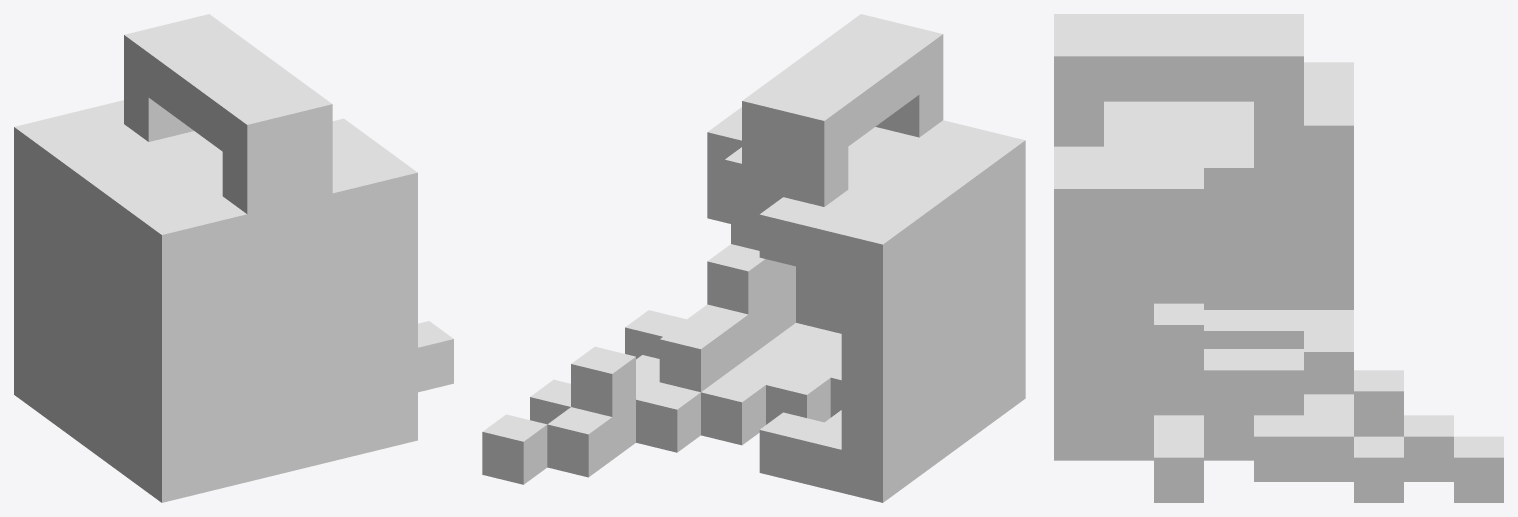
Rendered from CupWhiteDestroy.obj.
The picture shows the model from 3 angles, left to right: view 1: azimuth 30°, elevation 25°; view 2: azimuth 150°, elevation 25°; view 3: azimuth 270°, elevation 25°; orthographic projection. The views are drawn at different scales.
Bounding box in the file's own units: 0.8 × 0.8 × 0.9.
Materials: 1 (1 with a texture image).
